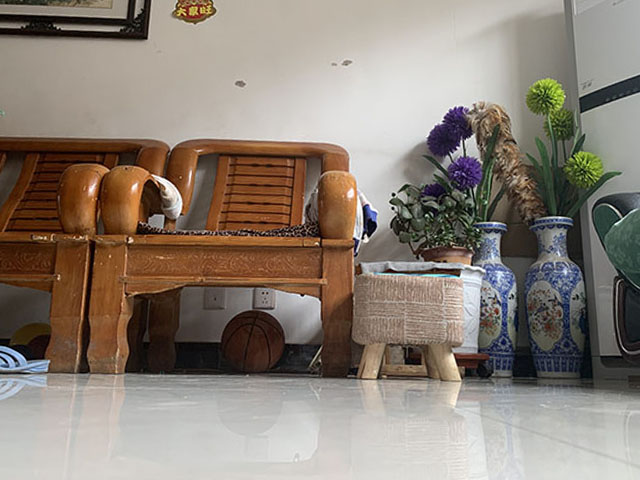slippers: (1, 346, 53, 377)
sofa: (90, 134, 359, 376), (1, 134, 162, 380)
stool: (352, 272, 466, 383)
